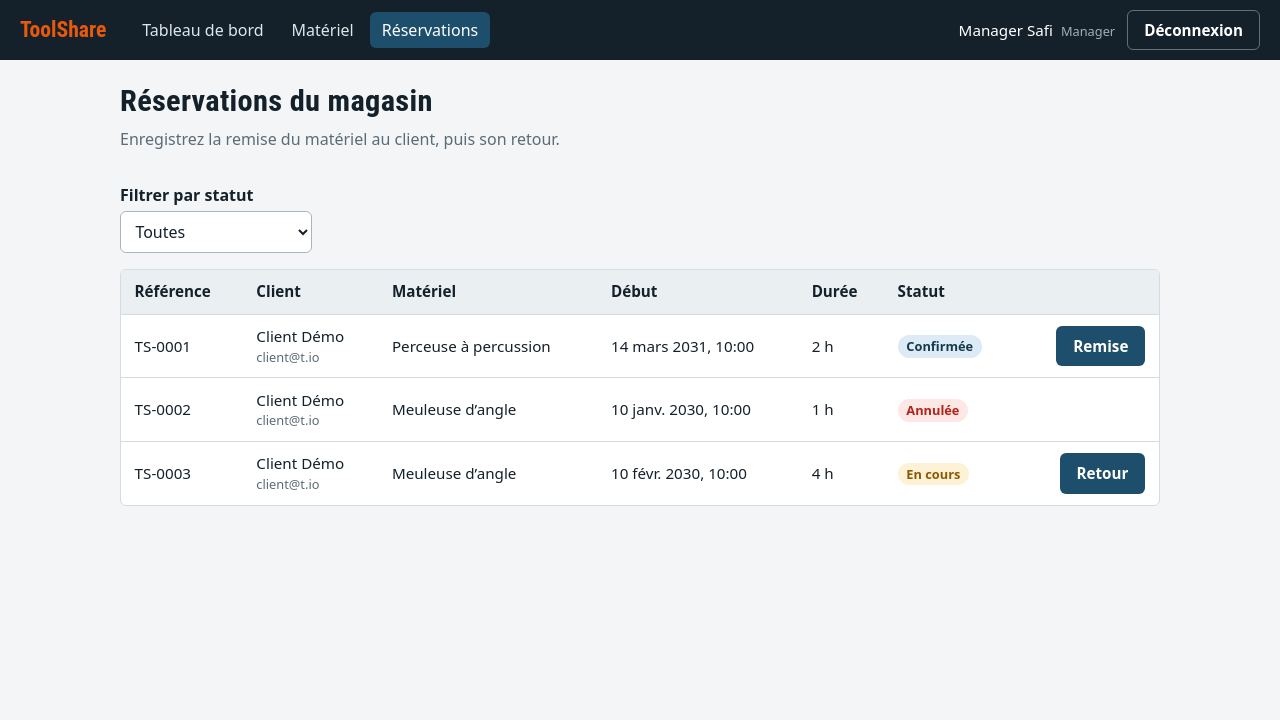
Scenario: handover and return › shows the API refusal when the action is no longer possible (409)
Expected: the text "TS-0001" is shown, x1=121 y1=314 x2=243 y2=378
Click the button with aria-label "Enregistrer la remise de TS-0001" at (1101, 346), box x1=1056 y1=326 x2=1145 y2=366
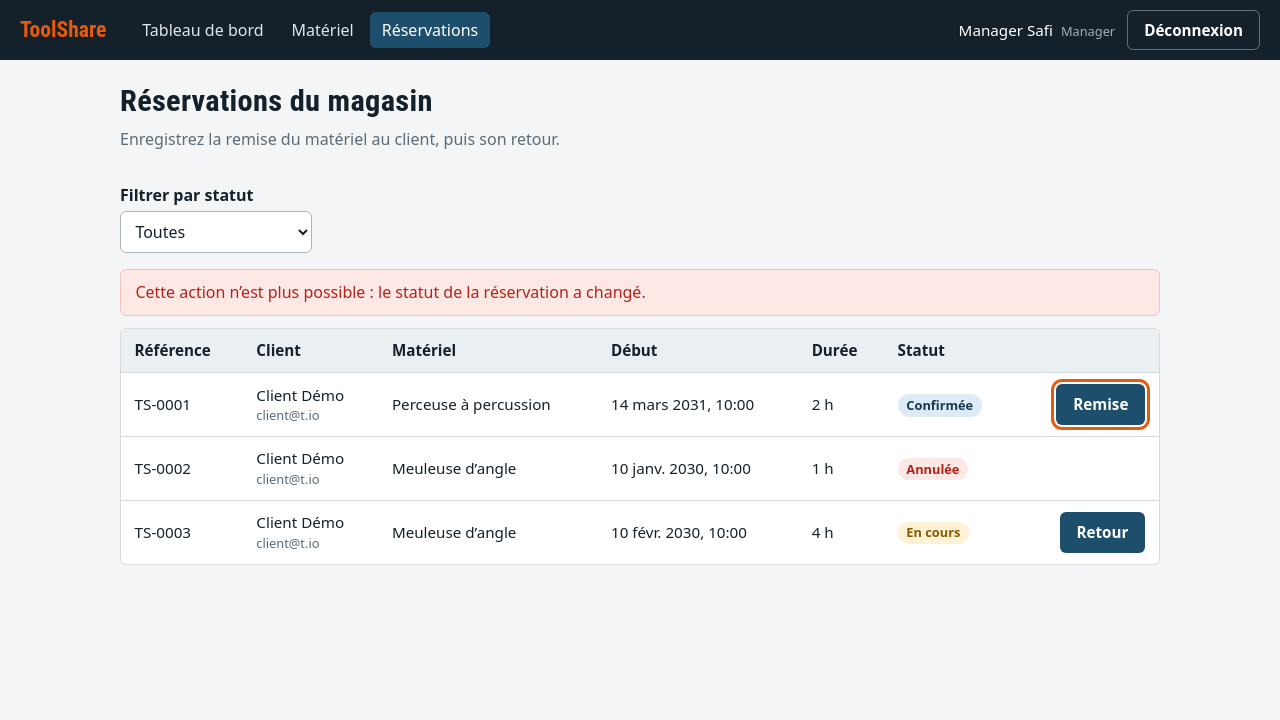
Expected: the message shows "le statut de la réservation a changé", x1=135 y1=281 x2=646 y2=303
